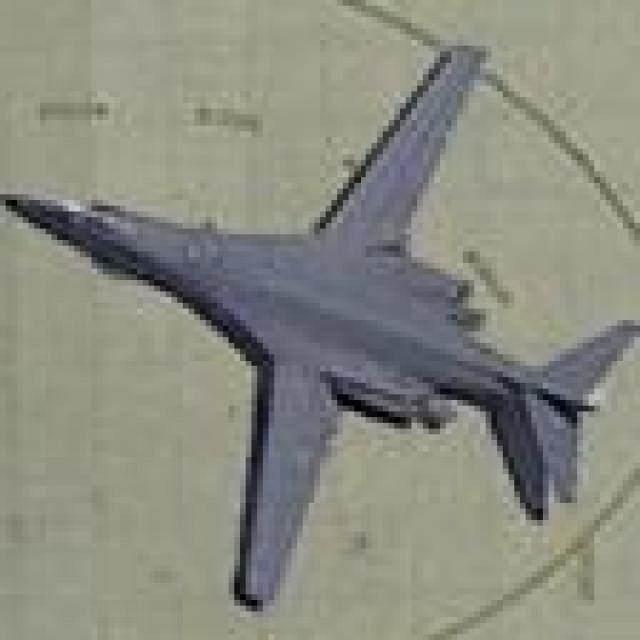B-1_TopDown: (0, 34, 634, 611)
